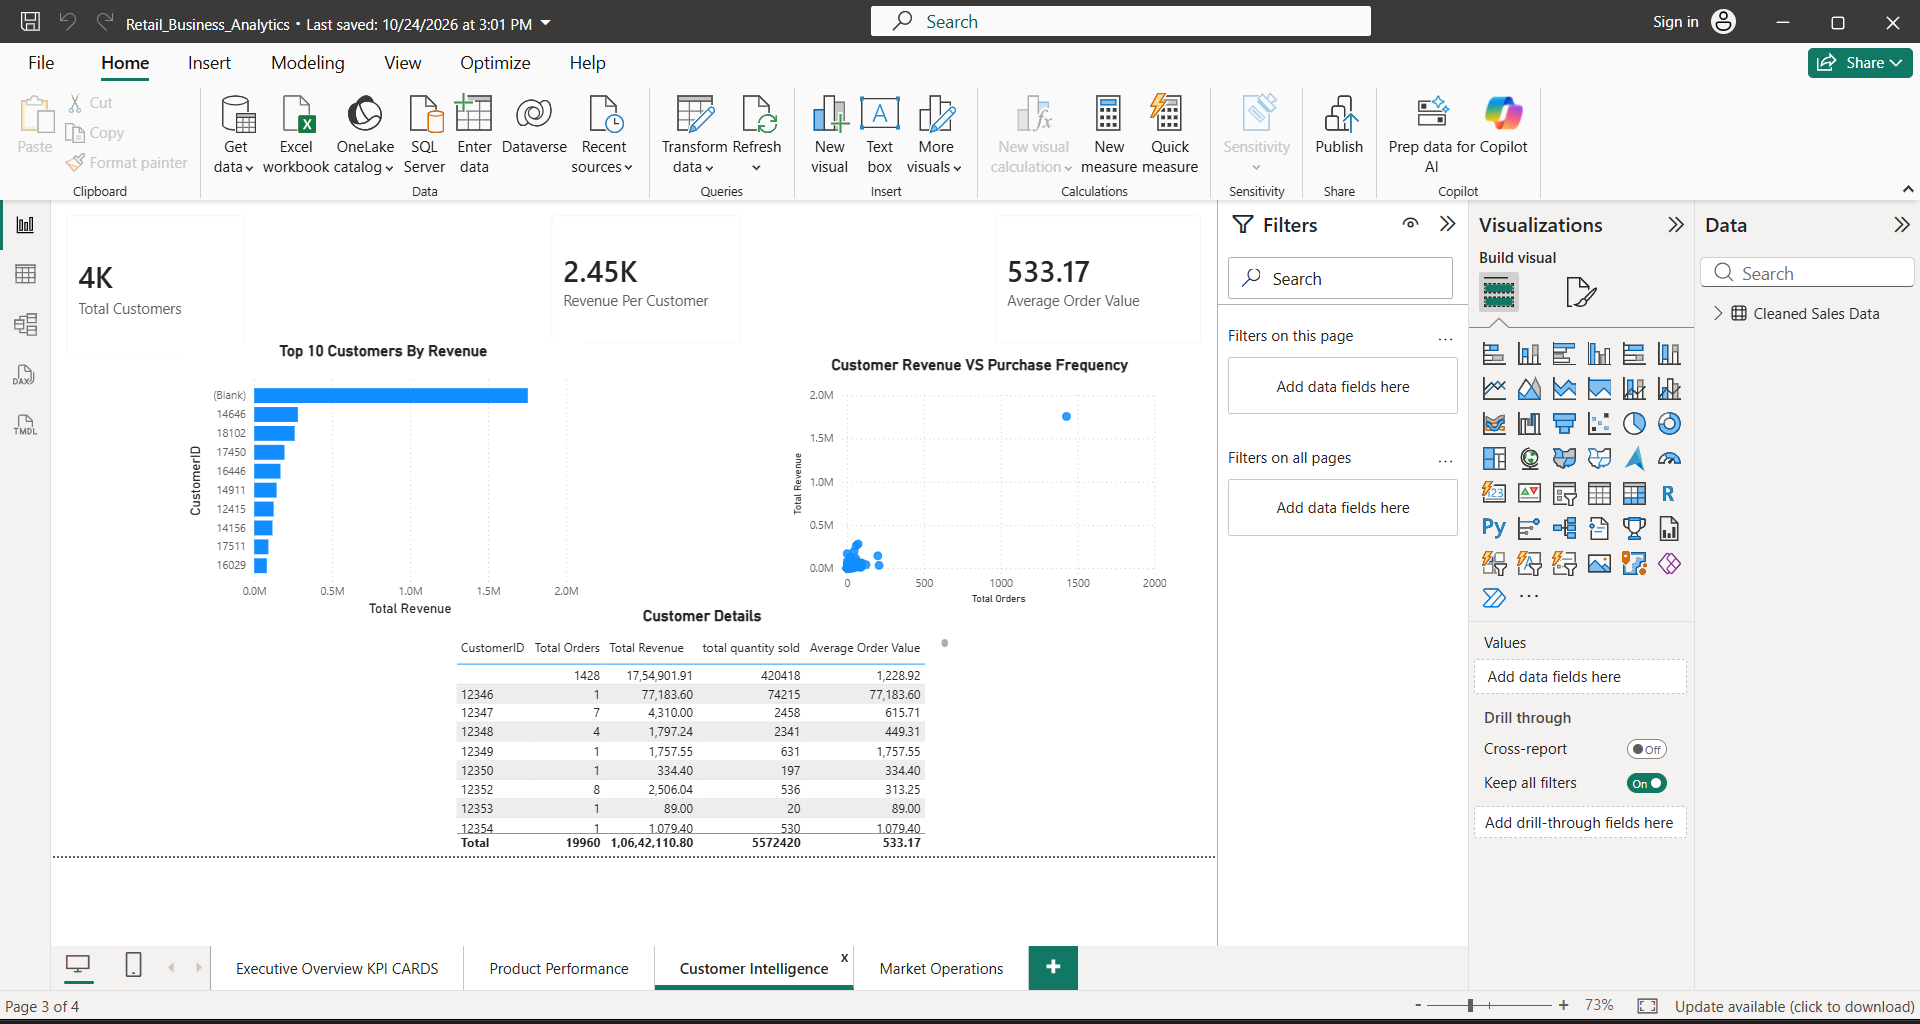

This screenshot's page, from the dashboard's own definition file:
{"tool":"powerbi","page":{"name":"Customer Intelligence","canvas":[1280,720],"ordinal":2},"visuals":[{"type":"cardVisual","fields":{"Data":["Cleaned Sales Data.Total Customers"]},"box":[0,0,230.5,189.4],"z":0},{"type":"cardVisual","fields":{"Data":["Cleaned Sales Data.Revenue Per Customer"]},"box":[532.4,0,241.5,174.3],"z":1000},{"type":"cardVisual","fields":{"Data":["Cleaned Sales Data.Average Order Value"]},"box":[1019.6,0,260.7,174.3],"z":2000},{"type":"clusteredBarChart","title":"Top 10 Customers By Revenue","fields":{"Category":["Cleaned Sales Data.CustomerID"],"Y":["Cleaned Sales Data.Total Revenue"]},"box":[145.5,155.1,439.1,306],"z":3000},{"type":"scatterChart","title":"Customer Revenue VS Purchase Frequency","fields":{"X":["Cleaned Sales Data.Total Orders"],"Y":["Cleaned Sales Data.Total Revenue"],"Category":["Cleaned Sales Data.CustomerID"]},"box":[809.6,170.2,419.9,278.6],"z":4000},{"type":"tableEx","title":"Customer Details","fields":{"Values":["Cleaned Sales Data.CustomerID","Cleaned Sales Data.Total Orders","Cleaned Sales Data.Total Revenue","Cleaned Sales Data.total quantity sold","Cleaned Sales Data.Average Order Value"]},"box":[439.1,446,551.6,274.4],"z":5000}]}

Visuals, with their boxes on the page's 1280x720 design canvas (x1, y1, x2, y2). These are canvas units, not pixel positions in the 1920x1024 screenshot, which may show the page scaled, cropped or inside an application window:
cardVisual - Cleaned Sales Data.Total Customers: [x1=0, y1=0, x2=230, y2=189]
cardVisual - Cleaned Sales Data.Revenue Per Customer: [x1=532, y1=0, x2=774, y2=174]
cardVisual - Cleaned Sales Data.Average Order Value: [x1=1020, y1=0, x2=1280, y2=174]
"Top 10 Customers By Revenue" clusteredBarChart: [x1=146, y1=155, x2=585, y2=461]
"Customer Revenue VS Purchase Frequency" scatterChart: [x1=810, y1=170, x2=1230, y2=449]
"Customer Details" tableEx: [x1=439, y1=446, x2=991, y2=720]
